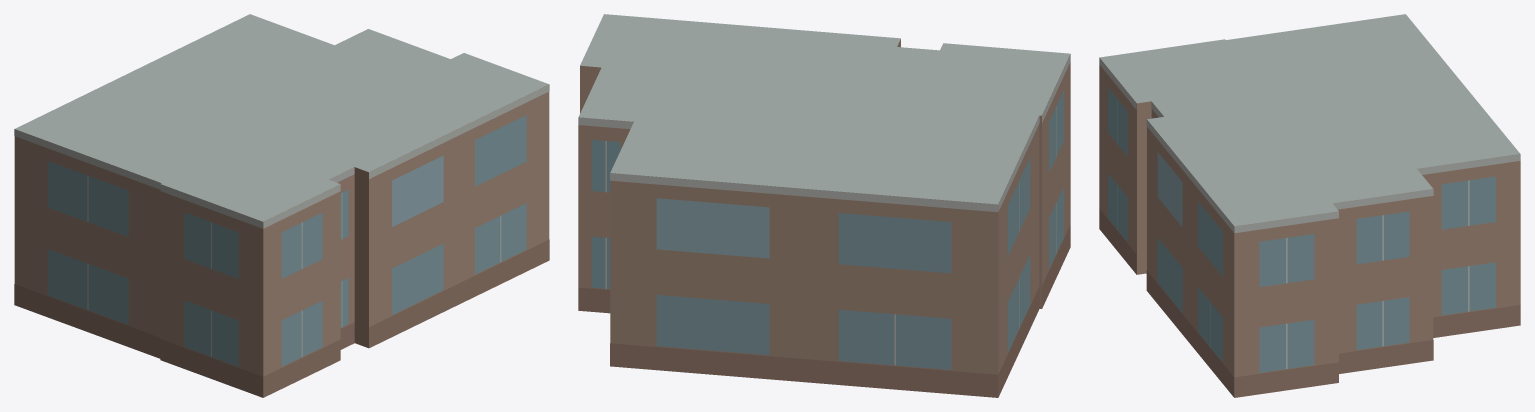
File: survey-upis-32692388.glb
The picture shows the model from 3 angles, left to right: view 1: azimuth 30°, elevation 25°; view 2: azimuth 150°, elevation 25°; view 3: azimuth 270°, elevation 25°; orthographic projection. The views are drawn at different scales.
Visible parts, largest first — view 1: survey-upis-32692388.tmp; view 2: survey-upis-32692388.tmp; view 3: survey-upis-32692388.tmp.
Boxes of the visible parts, bbox=[...] form: survey-upis-32692388.tmp: bbox=[14, 14, 549, 397]; survey-upis-32692388.tmp: bbox=[578, 14, 1070, 397]; survey-upis-32692388.tmp: bbox=[1099, 14, 1520, 397].
Bounding box in the file's own units: 16.21 × 6.1 × 13.59.
